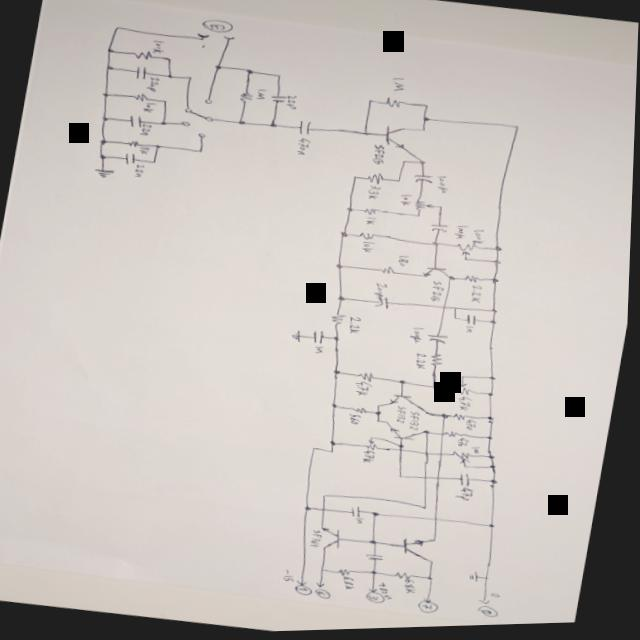capacitor: (429, 335, 454, 347), (413, 175, 436, 188), (297, 121, 314, 138), (372, 299, 394, 312), (430, 225, 452, 237), (313, 331, 329, 347), (127, 115, 145, 129), (122, 152, 138, 167), (269, 95, 289, 107), (352, 507, 368, 521), (134, 65, 148, 81), (368, 555, 390, 565), (461, 476, 476, 490), (467, 317, 480, 329)
crossover: (435, 519, 444, 526), (323, 509, 332, 515), (425, 478, 433, 483), (427, 453, 435, 458), (444, 307, 450, 312), (442, 434, 448, 439), (441, 454, 447, 459), (440, 478, 445, 484), (401, 450, 407, 455)
ground: (94, 167, 117, 181), (292, 330, 306, 346), (471, 573, 484, 586)
junction: (306, 507, 318, 514), (442, 415, 454, 422), (245, 69, 256, 76), (421, 118, 432, 125), (488, 418, 499, 425), (424, 432, 435, 439), (449, 278, 460, 285), (101, 115, 110, 123), (214, 65, 224, 72), (269, 123, 279, 130), (493, 481, 503, 488), (422, 105, 432, 112), (100, 139, 110, 146), (492, 467, 501, 474), (400, 381, 410, 387), (339, 297, 349, 303), (334, 371, 344, 377), (491, 526, 501, 532), (495, 249, 505, 255), (105, 65, 115, 71), (238, 121, 248, 127), (372, 541, 382, 547), (513, 127, 523, 133), (340, 234, 350, 240), (493, 280, 502, 286), (337, 265, 346, 271), (491, 378, 500, 384), (348, 209, 357, 215), (377, 412, 386, 418), (430, 578, 439, 584), (367, 100, 376, 106), (489, 437, 498, 443), (335, 338, 344, 344), (106, 48, 115, 54), (490, 457, 499, 463), (400, 446, 409, 452), (102, 92, 111, 98), (432, 244, 442, 249), (490, 394, 498, 400), (435, 387, 443, 393), (186, 76, 194, 82), (167, 74, 175, 80), (323, 569, 331, 575), (492, 311, 501, 316), (374, 572, 383, 577), (491, 322, 499, 327), (375, 514, 383, 519), (333, 405, 341, 410), (333, 443, 341, 448), (495, 262, 503, 267), (420, 163, 428, 168), (155, 145, 163, 150), (160, 122, 168, 127), (165, 57, 173, 62), (114, 26, 122, 31), (151, 160, 159, 165), (325, 495, 333, 500), (465, 468, 473, 473), (464, 260, 472, 265), (101, 154, 107, 160), (421, 129, 427, 135), (462, 377, 469, 382), (198, 150, 205, 155), (276, 75, 283, 80), (425, 507, 432, 512), (314, 448, 321, 453), (331, 451, 338, 456), (377, 421, 384, 426), (454, 309, 461, 314), (454, 319, 461, 324), (371, 438, 379, 442), (401, 477, 407, 482), (354, 177, 360, 182), (417, 216, 423, 221), (364, 134, 370, 139), (488, 579, 494, 584), (439, 208, 445, 212), (403, 162, 408, 166), (398, 181, 402, 185), (200, 39, 205, 42)
resistor: (457, 243, 482, 261), (454, 453, 477, 468), (456, 384, 477, 400), (132, 49, 155, 63), (396, 572, 420, 585), (332, 314, 350, 330), (415, 200, 434, 215), (365, 441, 386, 454), (432, 355, 448, 371), (358, 373, 379, 385), (129, 92, 150, 104), (385, 99, 404, 112), (239, 91, 255, 106), (368, 174, 386, 187), (340, 569, 360, 580), (359, 233, 379, 244), (380, 267, 399, 278), (464, 277, 484, 287), (355, 407, 371, 417), (125, 140, 144, 148), (447, 433, 466, 441), (456, 415, 471, 425), (365, 209, 381, 218)
switch: (180, 97, 221, 142)
terminal: (222, 35, 237, 43), (195, 33, 212, 40), (482, 601, 497, 608), (320, 583, 331, 590), (428, 599, 437, 606), (302, 582, 312, 587), (372, 589, 381, 594)
text: (199, 17, 235, 37), (430, 281, 448, 306), (354, 382, 379, 400), (371, 146, 389, 168), (395, 406, 413, 428), (457, 488, 479, 506), (410, 328, 429, 347), (379, 584, 399, 602), (420, 602, 444, 617), (470, 286, 487, 307), (436, 177, 453, 197), (349, 317, 366, 337), (411, 412, 426, 434), (390, 77, 408, 95), (459, 397, 477, 415), (415, 354, 432, 373), (373, 283, 390, 302), (312, 530, 328, 550), (296, 139, 312, 159), (344, 576, 362, 593), (471, 231, 488, 248), (146, 77, 162, 95), (150, 40, 168, 56), (481, 607, 503, 620), (364, 451, 381, 467), (285, 95, 301, 112), (406, 581, 423, 597), (454, 227, 470, 243), (350, 414, 367, 429), (368, 186, 383, 203), (400, 195, 416, 210), (254, 88, 270, 103), (317, 589, 336, 601), (362, 242, 378, 256), (139, 123, 155, 137), (285, 571, 301, 585), (398, 256, 414, 270), (134, 164, 148, 179), (369, 594, 388, 605), (299, 587, 317, 598), (467, 421, 481, 434), (144, 103, 159, 115), (460, 439, 474, 450), (366, 217, 379, 228), (314, 346, 328, 356), (472, 448, 486, 458), (466, 327, 479, 337), (357, 518, 370, 528), (141, 147, 153, 156), (494, 595, 505, 602)
transistor: (403, 537, 439, 564), (388, 393, 427, 415), (384, 128, 414, 153), (321, 528, 347, 554), (422, 267, 456, 284), (390, 427, 422, 445)
